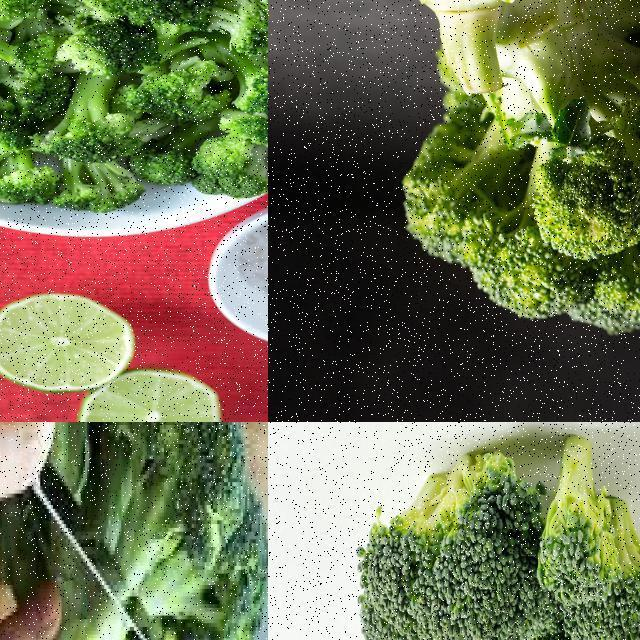broccoli: (382, 0, 639, 341), (352, 422, 639, 639), (0, 422, 267, 639), (32, 65, 142, 166), (116, 48, 241, 124), (198, 10, 267, 117), (188, 121, 267, 196), (88, 0, 214, 30)
